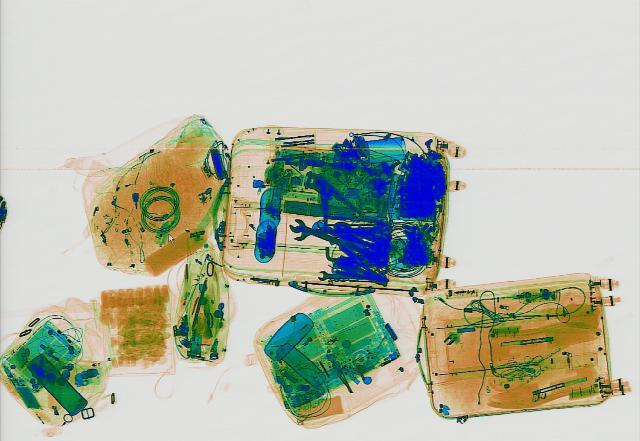Wrench: (282, 216, 356, 251), (292, 221, 346, 240), (316, 270, 354, 280)
